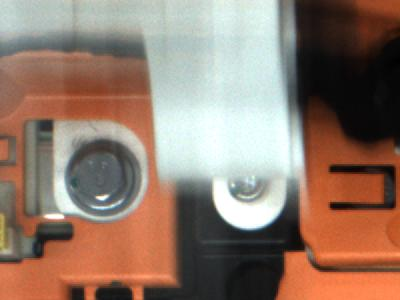nut_b: (62, 137, 147, 219)
